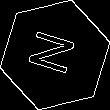N_E: (26, 28, 84, 82)
